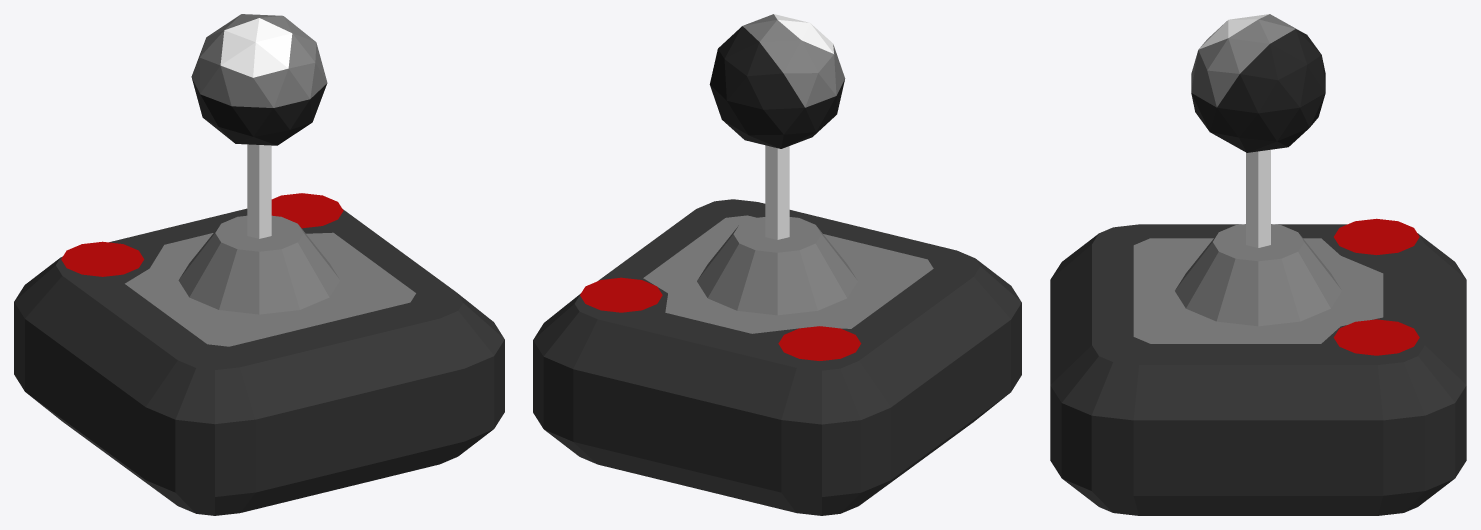
The model's file is sande_tac2.obj.
The picture shows the model from 3 angles, left to right: view 1: azimuth 30°, elevation 25°; view 2: azimuth 150°, elevation 25°; view 3: azimuth 270°, elevation 25°; orthographic projection. The views are drawn at different scales.
Visible parts, largest first — view 1: Default, grey, white, red, dark_grey; view 2: Default, grey, dark_grey, red, white; view 3: Default, grey, dark_grey, red, white.
Boxes of the visible parts, x1,y1,x2,y2 form: Default: (14,208,504,515); grey: (125,14,415,346); white: (220,18,292,238); red: (61,193,343,276); dark_grey: (192,78,327,145); Default: (533,199,1021,515); grey: (643,14,933,333); dark_grey: (709,26,844,148); red: (580,277,861,360); white: (765,14,833,239); Default: (1050,224,1466,515); grey: (1133,14,1383,343); dark_grey: (1191,29,1325,152); red: (1333,218,1419,355); white: (1198,14,1270,247).
Bounding box in the file's own units: 3.49 × 3.94 × 3.49.
